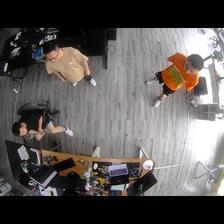normal: (144, 52, 203, 106), (44, 46, 95, 87), (10, 108, 71, 137)
